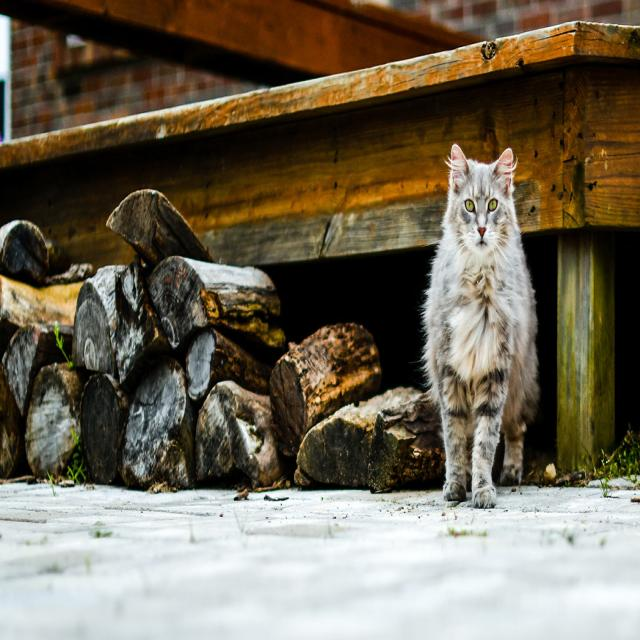cat: (424, 144, 539, 508)
